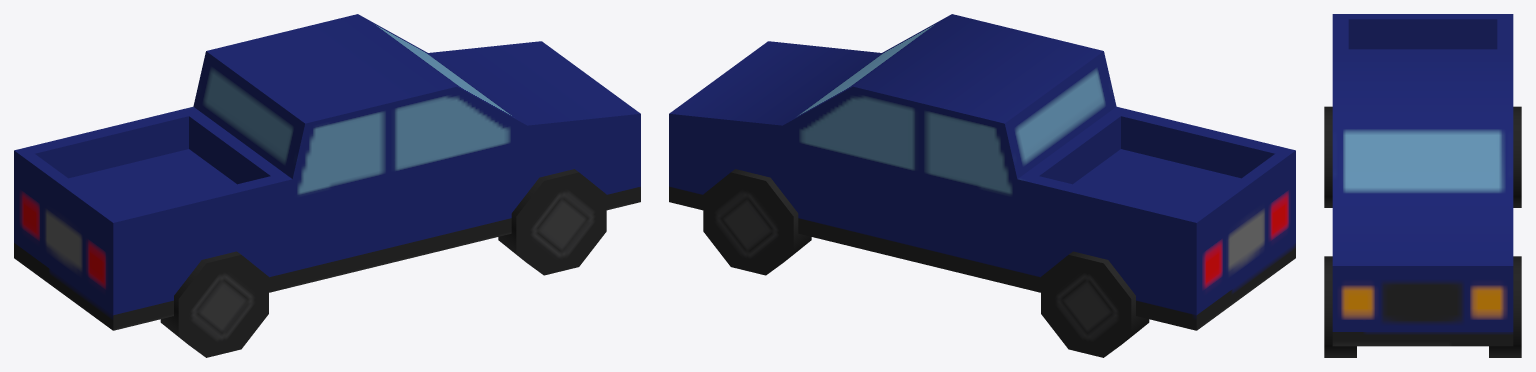
The model's file is Car02.glb.
The picture shows the model from 3 angles, left to right: view 1: azimuth 30°, elevation 25°; view 2: azimuth 150°, elevation 25°; view 3: azimuth 270°, elevation 25°; orthographic projection. The views are drawn at different scales.
Visible parts, largest first — view 1: Car02; view 2: Car02; view 3: Car02.
Boxes of the visible parts, x1,y1,x2,y2 form: Car02: (14, 14, 640, 357); Car02: (669, 14, 1295, 357); Car02: (1324, 14, 1521, 357).
Size of what is drawn, in the model's own units: 4.07 by 1.52 by 1.45.
Materials: 1 (1 with a texture image).
